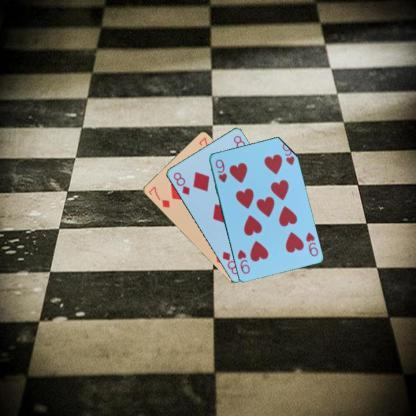7d: (146, 184, 171, 209)
8d: (170, 169, 191, 196)
9h: (303, 229, 319, 258), (212, 156, 228, 184)
